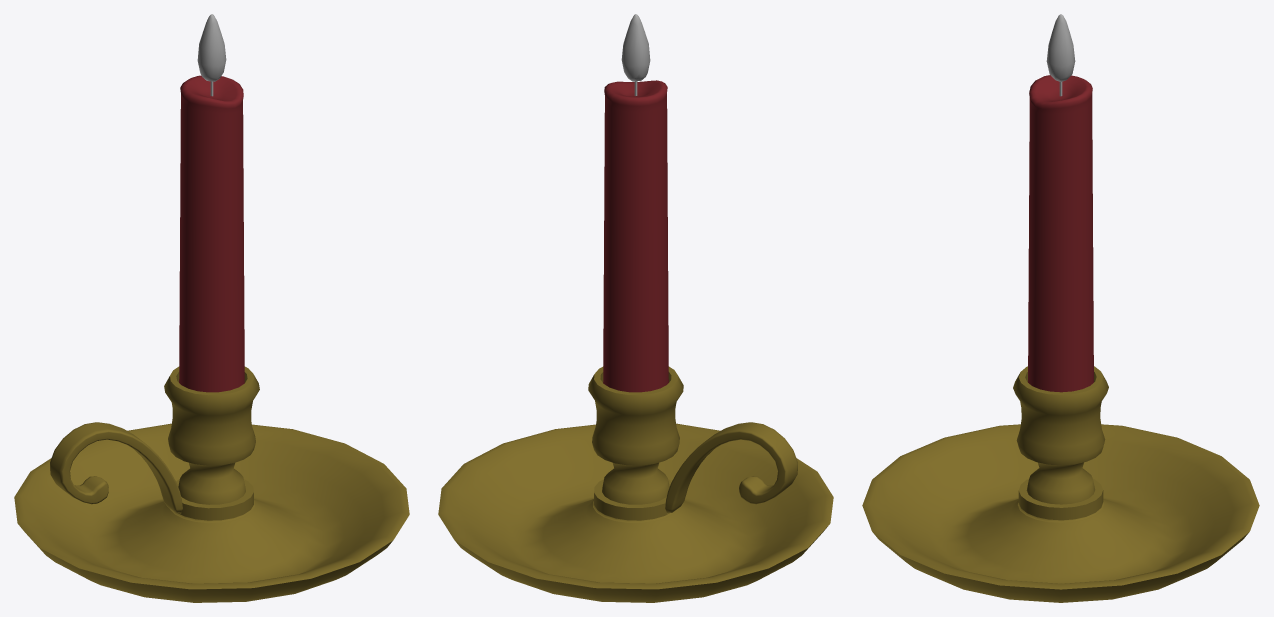
File: Candleholder_Final.fbx
3 renders of one model, left to right at view 1: azimuth 30°, elevation 25°; view 2: azimuth 150°, elevation 25°; view 3: azimuth 270°, elevation 25°, orthographic.
Visible parts, largest first — view 1: holder_body, candle, holder_handle, flame; view 2: holder_body, candle, holder_handle, flame; view 3: holder_body, candle, flame.
Boxes of the visible parts, box(x1,y1,x2,y2) form: holder_body: box(14, 366, 409, 602); candle: box(179, 75, 244, 392); holder_handle: box(50, 422, 182, 513); flame: box(197, 14, 226, 81); holder_body: box(438, 366, 833, 602); candle: box(603, 80, 668, 392); holder_handle: box(665, 422, 797, 513); flame: box(621, 14, 650, 81); holder_body: box(862, 366, 1259, 602); candle: box(1028, 75, 1093, 392); flame: box(1046, 14, 1075, 81).
Bounding box in the file's own units: 15.9 × 23.8 × 15.9.
